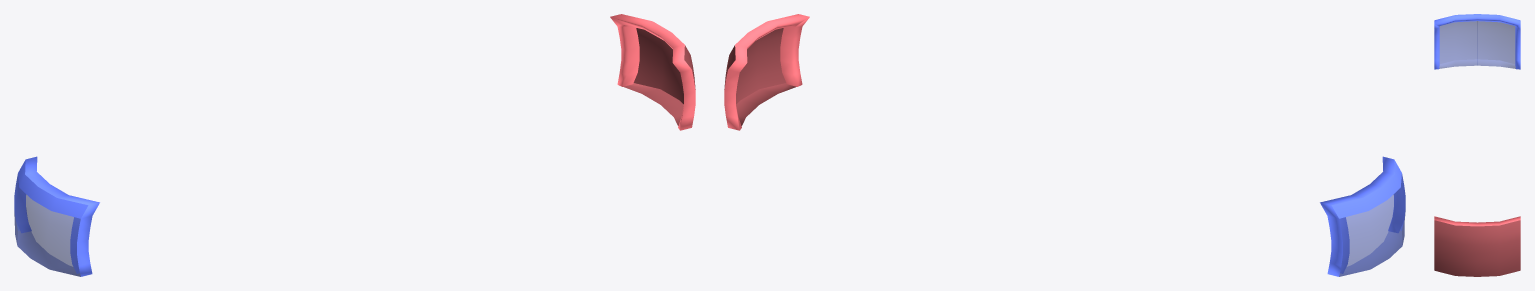
The model's file is PongChamp_Assets_GoalPosts.glb.
The picture shows the model from 3 angles, left to right: view 1: azimuth 30°, elevation 25°; view 2: azimuth 150°, elevation 25°; view 3: azimuth 270°, elevation 25°; orthographic projection. The views are drawn at different scales.
Visible parts, largest first — view 1: goalposts.001; view 2: goalposts.001; view 3: goalposts.001.
Boxes of the visible parts, x1=… form: goalposts.001: x1=14, y1=14, x2=695, y2=276; goalposts.001: x1=724, y1=14, x2=1405, y2=276; goalposts.001: x1=1434, y1=14, x2=1520, y2=276.
Bounding box in the file's own units: 83.8 × 8.55 × 13.95.
